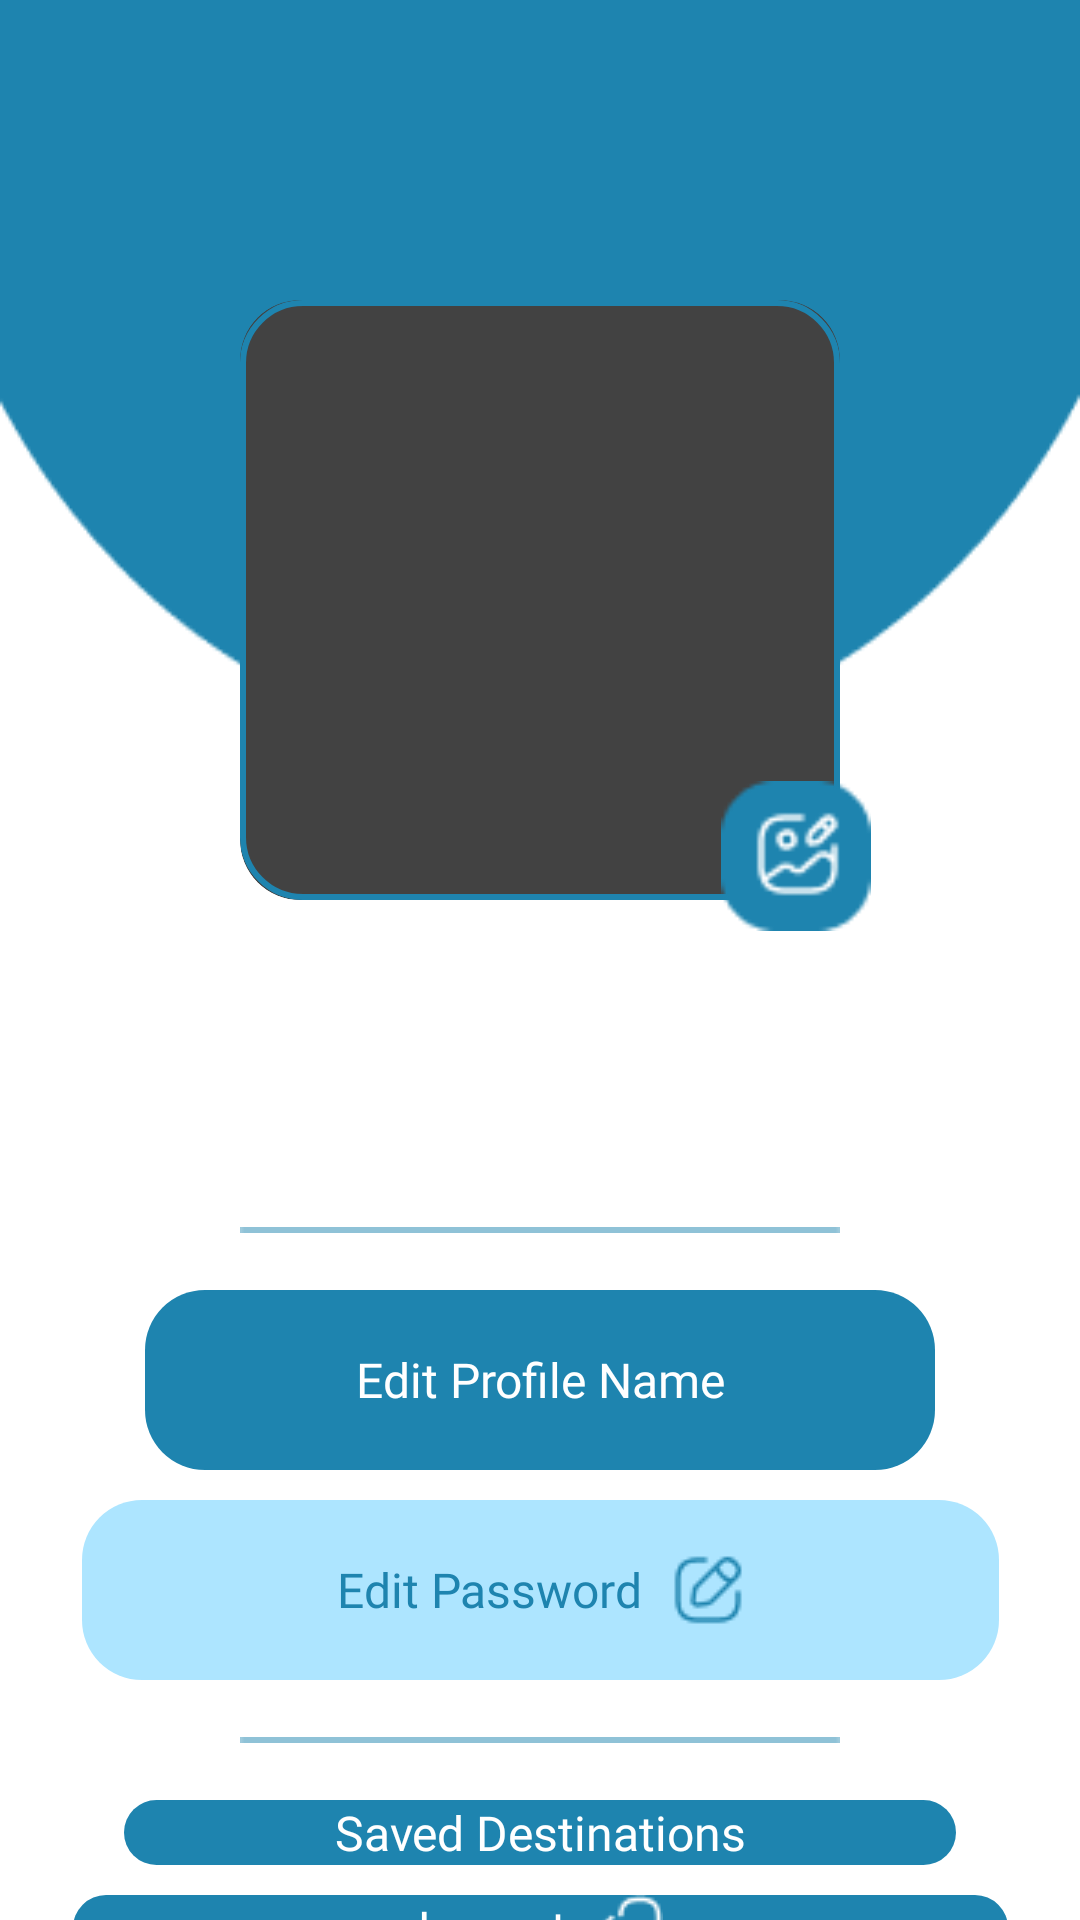

Icons on this 1080px×1920px Android screen, each with its box as (x1, y1, x2, y2):
galeryedit: (721, 781, 871, 931)
